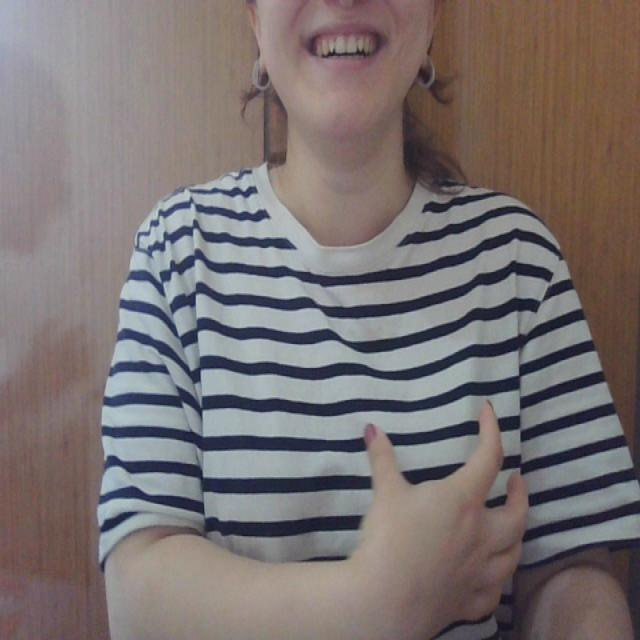Anne: (194, 395, 537, 640)
